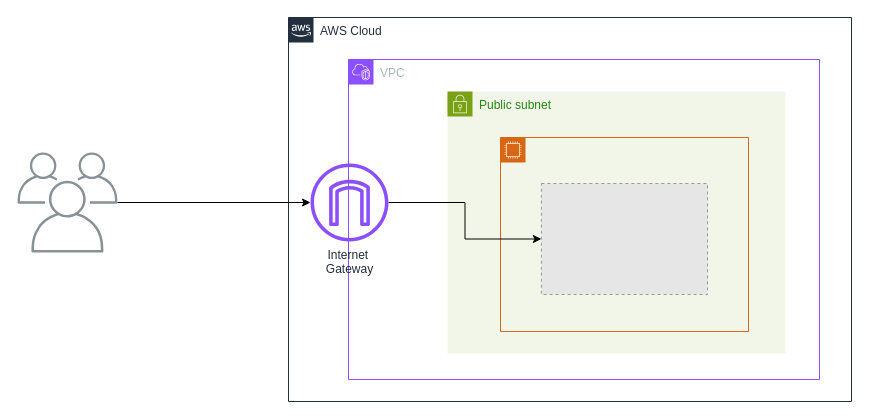
Image size: 869x419. Some labels were removed from this diagram. Grey dashed boxes stand in for pictures. The box of each missing label's shape, as (x1, y1, x2, y2) in pixels:
EC2 instance contents: (500, 136, 748, 332)
users: (17, 152, 117, 252)
